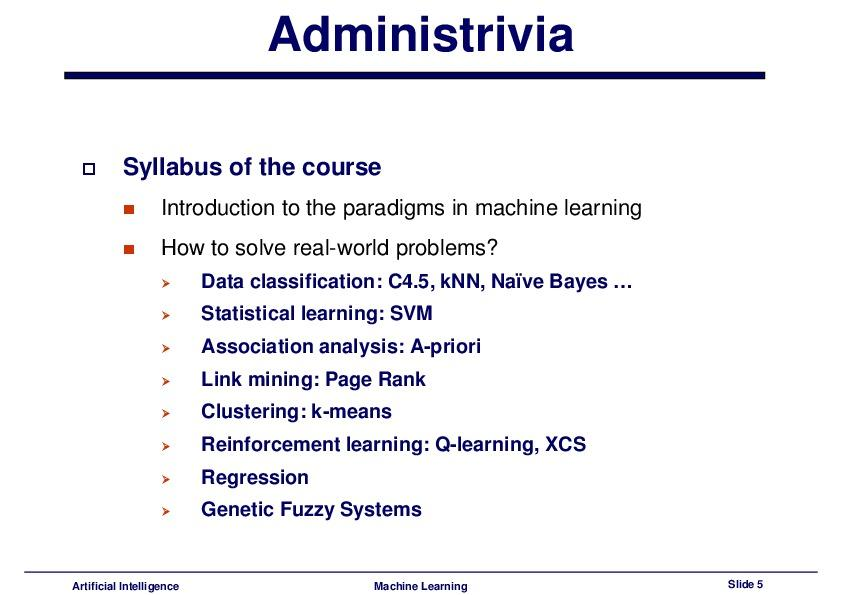paragraph: (149, 192, 756, 539)
subtitle: (57, 568, 842, 595), (119, 142, 397, 192)
title: (264, 5, 592, 76)
